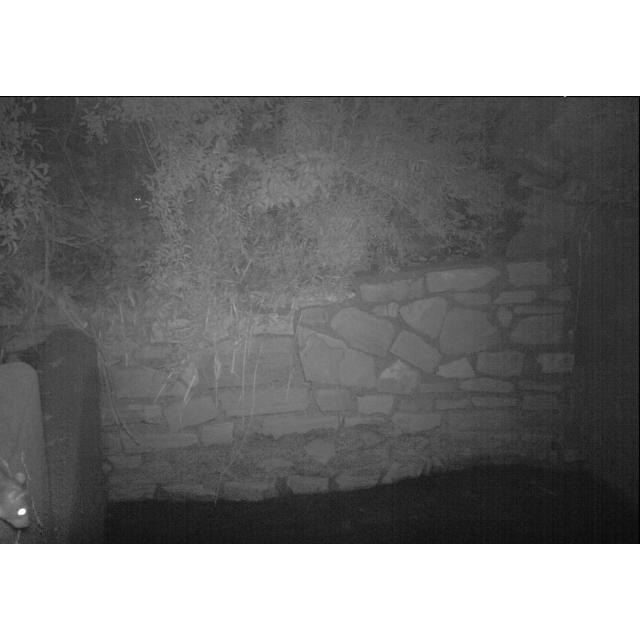animals: (1, 469, 34, 533)
